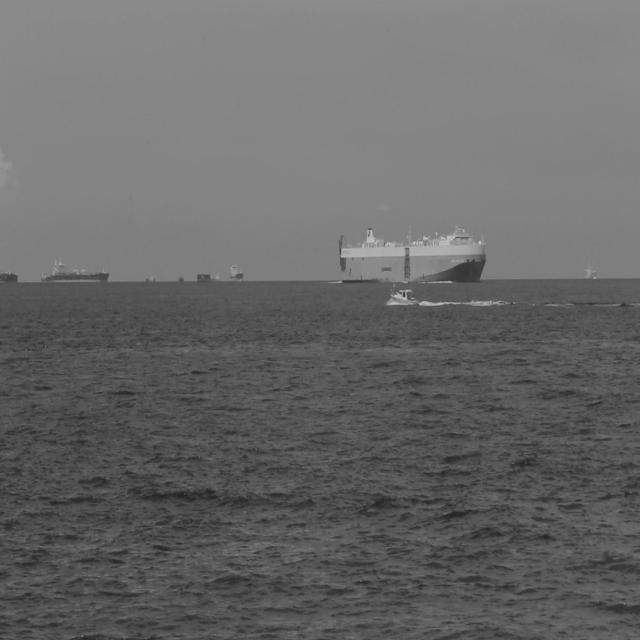ship: (338, 223, 487, 284), (50, 252, 110, 284), (390, 282, 420, 306), (0, 265, 20, 283), (228, 260, 244, 282), (196, 270, 212, 282), (40, 268, 50, 284), (178, 274, 185, 282)
